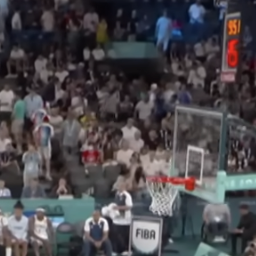hoop: (146, 177, 194, 213)
